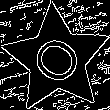O_SE: (24, 27, 89, 91)
